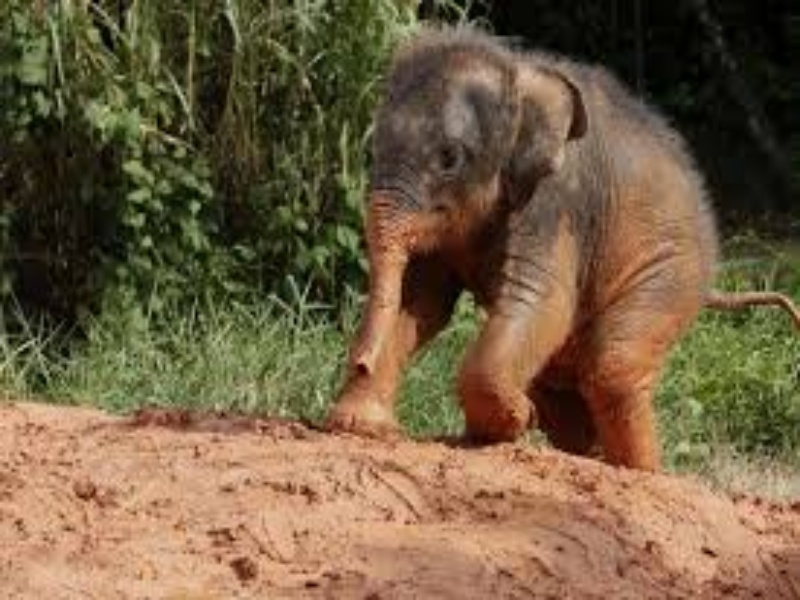elephant: (270, 30, 753, 497)
